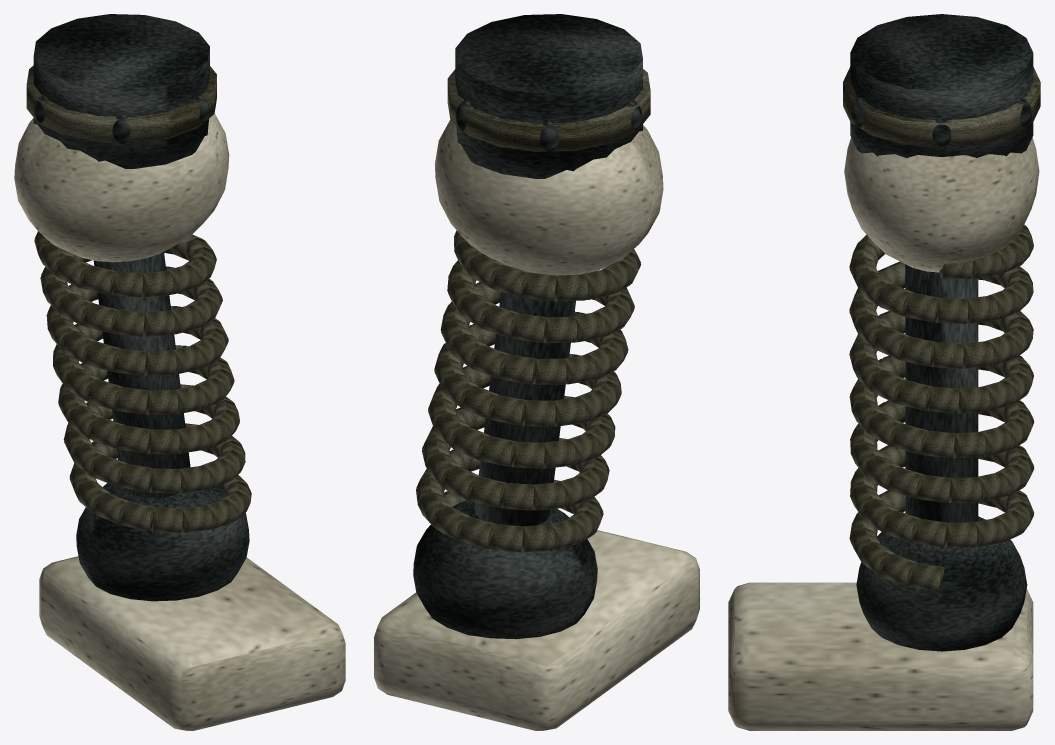
The model's file is leg-spring.glb.
3 renders of one model, left to right at view 1: azimuth 30°, elevation 25°; view 2: azimuth 150°, elevation 25°; view 3: azimuth 270°, elevation 25°, orthographic. The views are drawn at different scales.
Parts seen in each view (by area): view 1: leg-spring; view 2: leg-spring; view 3: leg-spring.
Part boxes in pixels (left/top/right/bottom): leg-spring: left=14, top=14, right=345, bottom=730; leg-spring: left=374, top=14, right=699, bottom=730; leg-spring: left=728, top=14, right=1040, bottom=730.
Size of the model in its own units: 0.44 by 1.13 by 0.512.
Materials: 3 (3 with a texture image).
